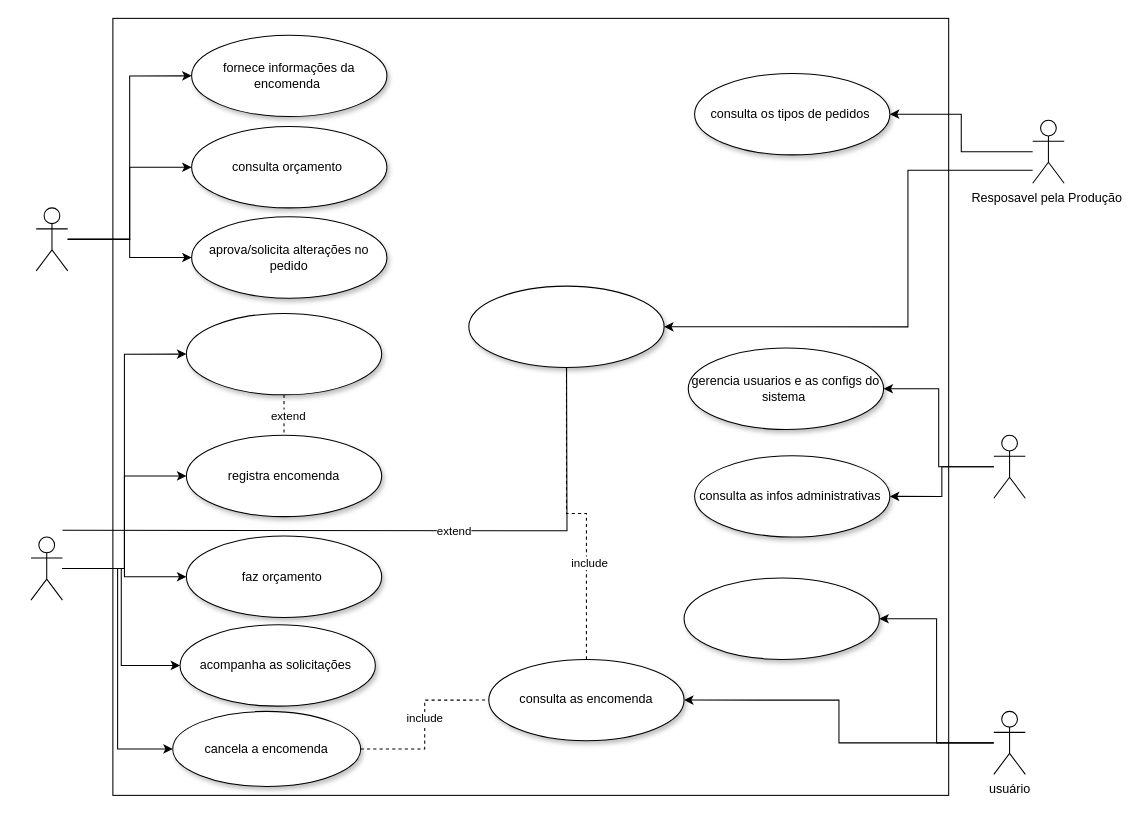
Some shapes in this 1143 by 815 pixel diagram are drawn without their labels. The shapes that lost their labels are listed below. From the top down, each one's centre as x and y in pixels, then its label:
At (x=51, y=239): "Cliente".
At (x=567, y=328): "atualiza o andamento".
At (x=284, y=355): "cadastra cliente".
At (x=1009, y=466): "ADM".
At (x=46, y=568): "Atendente".
At (x=782, y=620): "faz o login".
